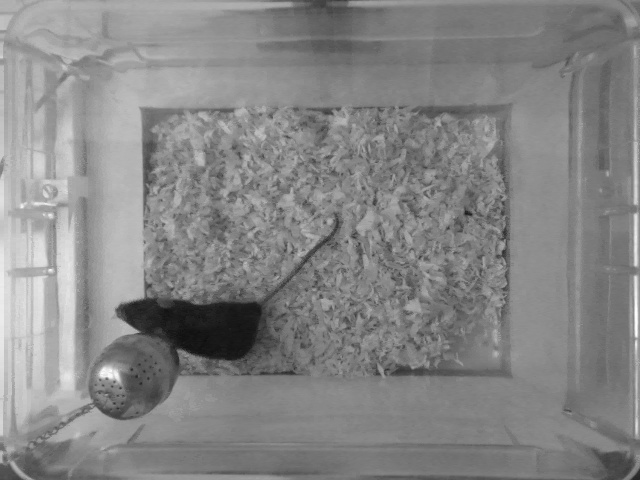mice: (106, 207, 353, 363)
